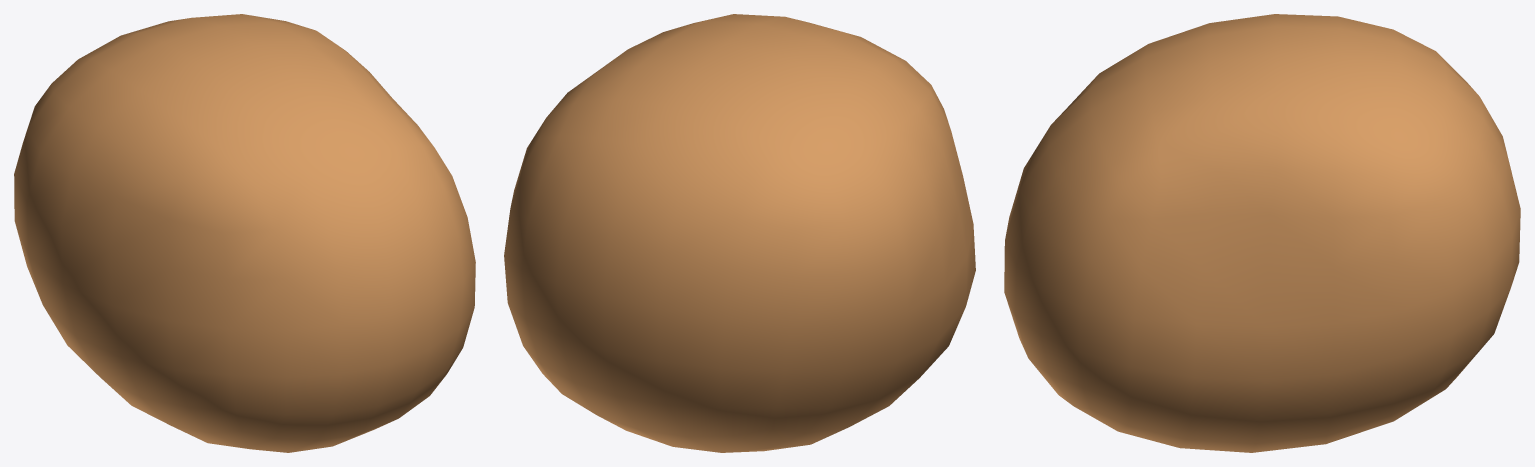
The model's file is Potato_02.dae.
3 views of the same model, side by side, from view 1: azimuth 30°, elevation 25°; view 2: azimuth 150°, elevation 25°; view 3: azimuth 270°, elevation 25° (orthographic). The views are drawn at different scales.
Visible parts, largest first — view 1: Potato_02_LOD0; view 2: Potato_02_LOD0; view 3: Potato_02_LOD0.
Boxes of the visible parts, <box> form: Potato_02_LOD0: <box>14,14,475,452</box>; Potato_02_LOD0: <box>504,14,975,452</box>; Potato_02_LOD0: <box>1004,14,1520,452</box>.
Size of what is drawn, in the model's own units: 3.29 by 3.94 by 3.19.
